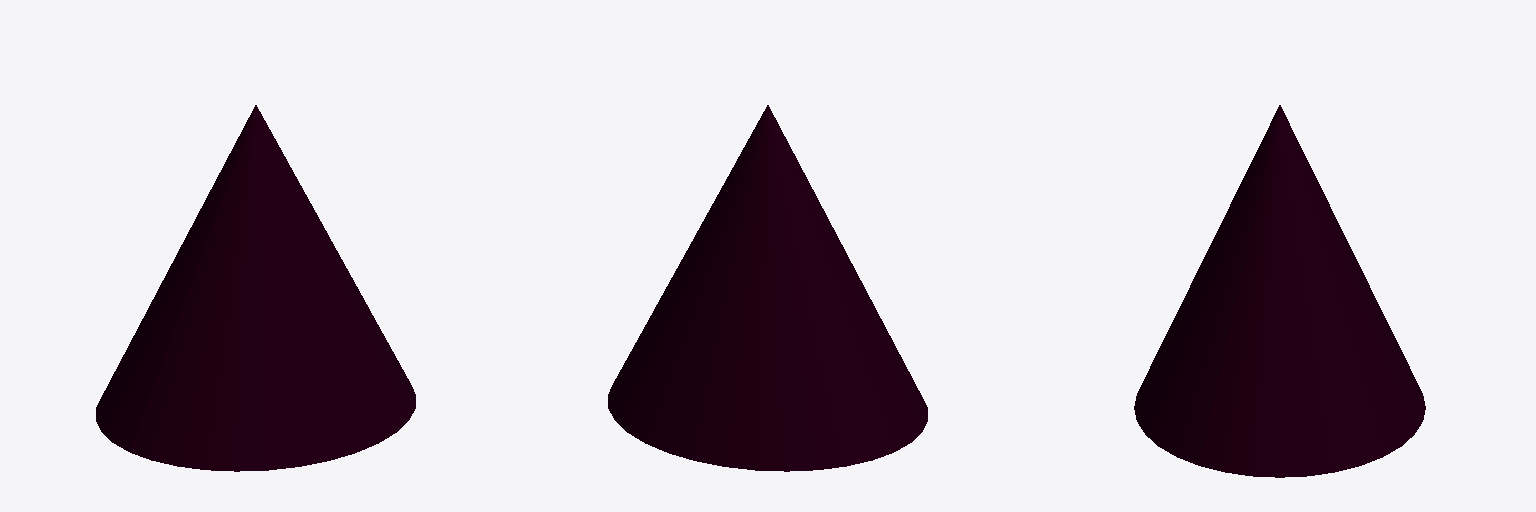
File: player.obj
The picture shows the model from 3 angles: view 1: azimuth 30°, elevation 25°; view 2: azimuth 150°, elevation 25°; view 3: azimuth 270°, elevation 25°; orthographic projection.
Parts seen in each view (by area): view 1: Cone; view 2: Cone; view 3: Cone.
Boxes of the visible parts, <box> form: Cone: <box>96,105,415,471</box>; Cone: <box>608,105,927,471</box>; Cone: <box>1134,105,1425,477</box>.
Bounding box in the file's own units: 2.4 × 2.43 × 2.12.